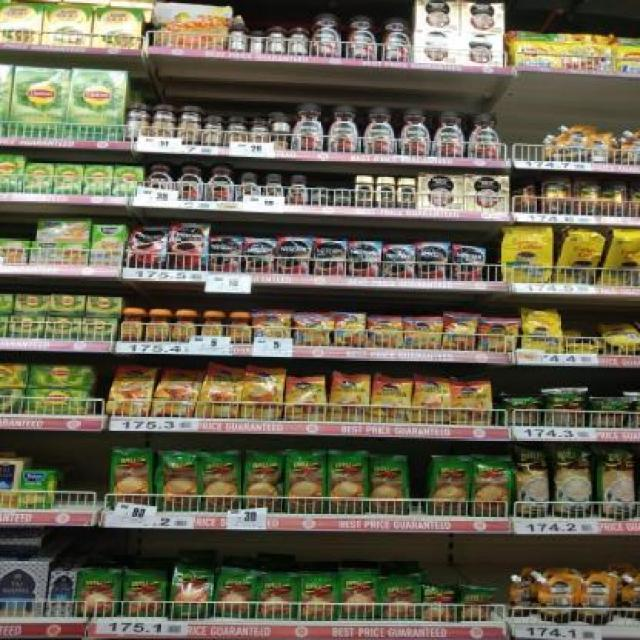Coffee: (109, 365, 151, 413), (243, 368, 283, 415), (203, 368, 241, 416), (284, 376, 325, 419), (451, 381, 492, 424), (170, 224, 208, 270), (330, 373, 368, 419), (361, 107, 397, 155), (158, 370, 197, 414), (290, 102, 324, 151), (414, 378, 451, 422), (326, 105, 359, 153), (375, 378, 411, 422), (432, 111, 466, 157), (398, 109, 431, 155), (132, 227, 169, 268), (468, 112, 501, 156), (346, 15, 379, 57), (311, 13, 343, 55), (254, 310, 292, 344), (383, 15, 412, 59), (205, 162, 237, 201), (295, 314, 332, 346), (349, 241, 381, 277), (451, 245, 483, 281), (481, 318, 517, 350), (277, 237, 310, 271), (334, 312, 367, 346), (447, 314, 477, 351), (370, 317, 403, 349), (407, 318, 441, 349), (417, 242, 446, 278), (177, 161, 204, 199), (315, 240, 345, 274), (383, 245, 415, 276), (211, 238, 240, 271), (147, 160, 175, 194), (245, 240, 274, 271), (147, 309, 171, 342), (200, 311, 224, 344), (227, 311, 251, 344), (121, 308, 145, 340), (173, 310, 197, 342), (353, 176, 375, 207), (263, 173, 285, 203), (286, 174, 308, 204), (238, 173, 260, 199), (376, 177, 396, 205), (397, 178, 416, 206), (334, 185, 352, 205), (314, 186, 330, 204)
